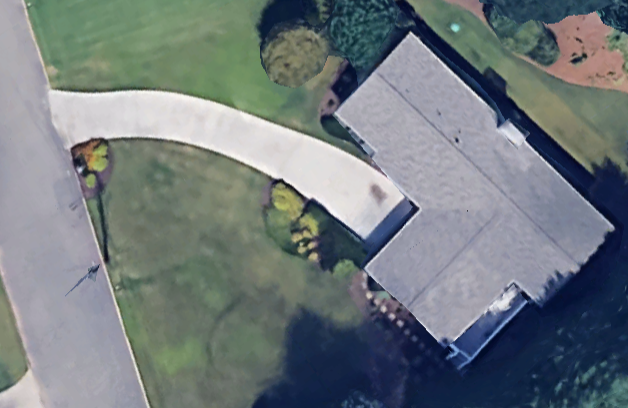driveway: (33, 60, 414, 245)
